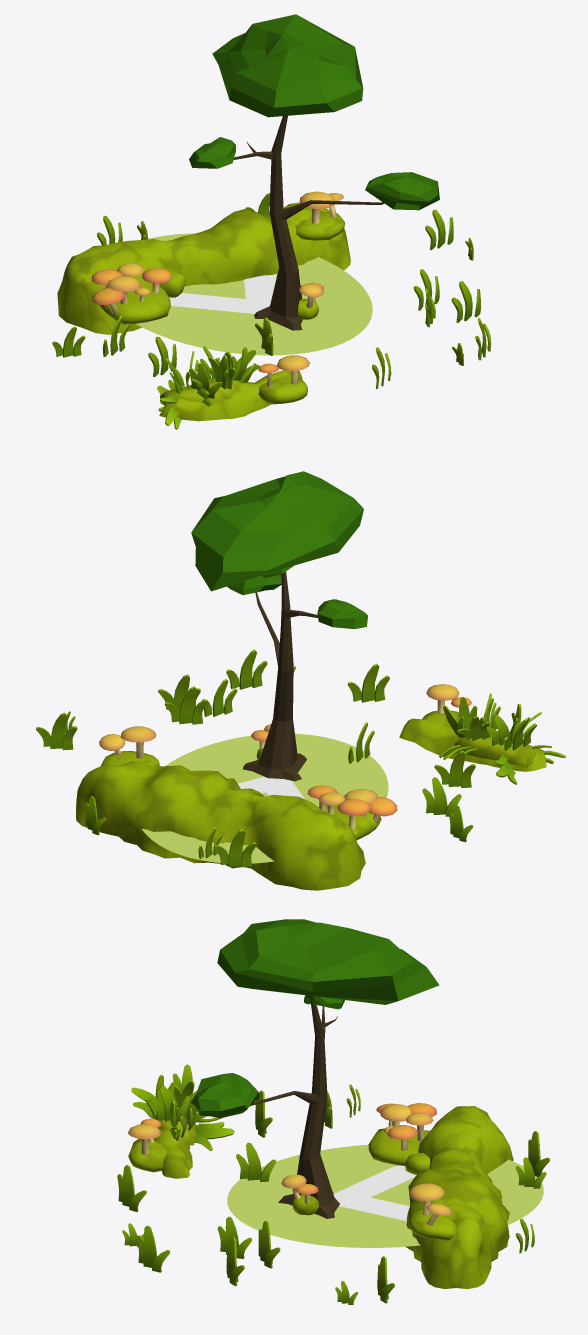
Rendered from tree.fbx.
3 renders of one model, top to bottom at view 1: azimuth 30°, elevation 25°; view 2: azimuth 150°, elevation 25°; view 3: azimuth 270°, elevation 25°, orthographic.
Visible parts, largest first — view 1: Object_2, moss, floor, Object_3, moss.002, moss.006, moss.005, moss.001, moss_with grass, grass4, grass6.001, grass6 (+1 smaller); view 2: moss, Object_2, floor, Object_3, moss.002, moss_with grass, grass2.002, grass2, grass2.001, grass4.001, grass6.001, grass6 (+5 smaller); view 3: Object_2, floor, moss, Object_3, moss.002, moss.006, moss.001, moss.005, grass3, grass4.001, grass2.001, particle (+7 smaller).
Part boxes in pixels (left/top/right/bottom): Object_2: left=189, top=14, right=439, bottom=210; moss: left=57, top=202, right=350, bottom=334; floor: left=136, top=233, right=372, bottom=355; Object_3: left=233, top=115, right=384, bottom=330; moss.002: left=159, top=370, right=302, bottom=421; moss.006: left=99, top=286, right=170, bottom=324; moss.005: left=258, top=375, right=307, bottom=404; moss.001: left=295, top=211, right=344, bottom=240; moss_with grass: left=160, top=378, right=241, bottom=405; grass4: left=451, top=281, right=480, bottom=322; grass6.001: left=425, top=209, right=453, bottom=250; grass6: left=148, top=336, right=176, bottom=376; moss: left=76, top=761, right=365, bottom=890; Object_2: left=191, top=471, right=367, bottom=628; floor: left=142, top=733, right=388, bottom=863; Object_3: left=243, top=572, right=317, bottom=781; moss.002: left=399, top=718, right=546, bottom=771; moss_with grass: left=454, top=730, right=535, bottom=767; grass2.002: left=213, top=829, right=256, bottom=867; grass2: left=165, top=686, right=207, bottom=724; grass2.001: left=347, top=663, right=389, bottom=702; grass4.001: left=226, top=649, right=267, bottom=689; grass6.001: left=36, top=712, right=77, bottom=750; grass6: left=434, top=750, right=475, bottom=787; Object_2: left=190, top=919, right=439, bottom=1118; floor: left=227, top=1145, right=543, bottom=1247; moss: left=405, top=1106, right=513, bottom=1288; Object_3: left=251, top=996, right=339, bottom=1218; moss.002: left=153, top=1114, right=192, bottom=1178; moss.006: left=368, top=1128, right=429, bottom=1165; moss.001: left=407, top=1208, right=455, bottom=1240; moss.005: left=128, top=1138, right=167, bottom=1172; grass3: left=236, top=1142, right=275, bottom=1182; grass4.001: left=136, top=1225, right=169, bottom=1272; grass2.001: left=117, top=1165, right=146, bottom=1211; particle: left=194, top=1122, right=234, bottom=1150.
Size of the model in its own units: 36503 by 22158 by 36503.
